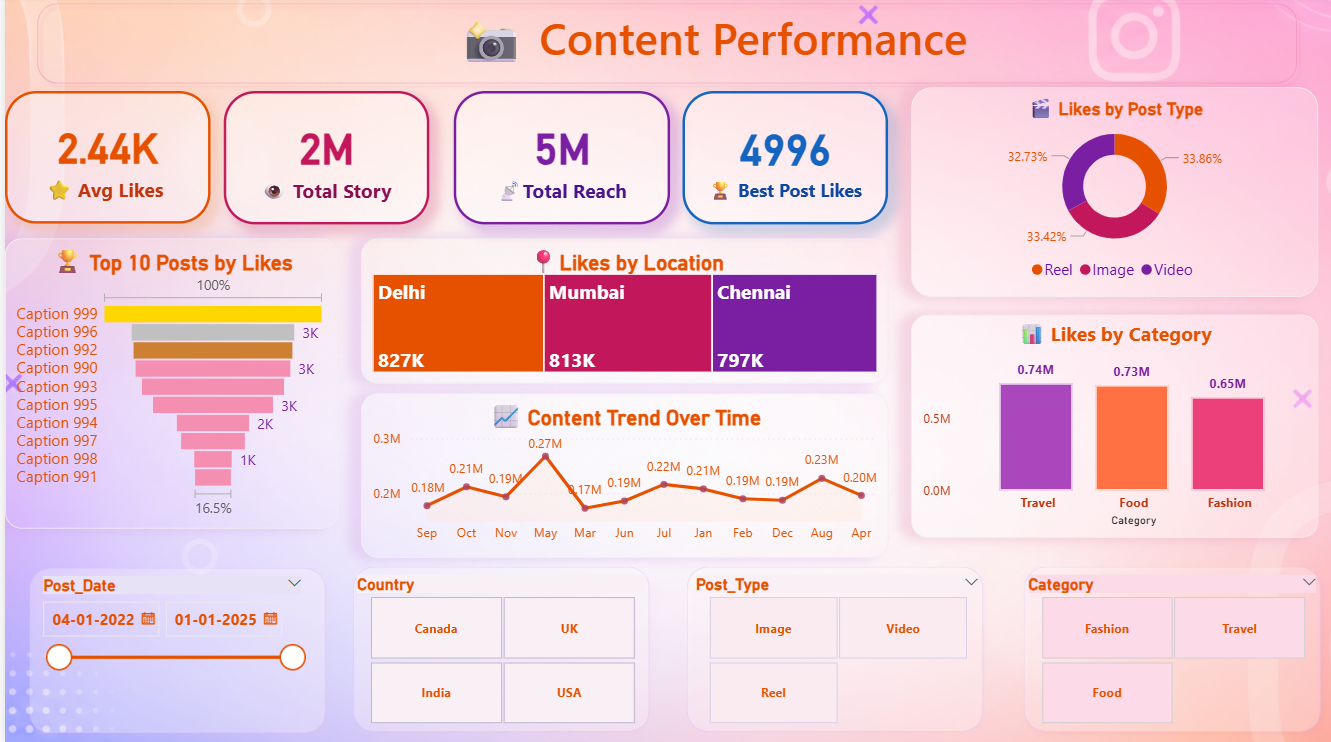

What the dashboard file says about the page in this screenshot:
{"tool":"powerbi","page":{"name":"CONTENT PERFORMANCE","canvas":[1280,720],"ordinal":1},"visuals":[{"type":"card","fields":{"Values":["Engagement.Total Reach"]},"box":[432.9,91.4,208.6,128.6],"z":0},{"type":"card","fields":{"Values":["Stories.Total Story Views"]},"box":[211.4,91.4,198.6,128.6],"z":1000},{"type":"card","fields":{"Values":["Posts.Best Post Likes"]},"box":[654.3,91.4,198.6,128.6],"z":2000},{"type":"treemap","title":"📍Likes by Location","fields":{"Values":["Likes.Total Likes"],"Group":["Posts.Location"]},"box":[343.8,233.8,508.8,140],"z":3000},{"type":"clusteredColumnChart","title":"📊 Likes by Category","fields":{"Y":["Posts.Likes by Category"],"Category":["Hashtags.Category"]},"box":[875,307.5,392.5,215],"z":4000},{"type":"donutChart","title":"🎬 Likes by Post Type","fields":{"Category":["Posts.Post_Type"],"Y":["Likes.Total Likes"]},"box":[875,87.5,392.5,202.5],"z":5000},{"type":"group","id":"g1","title":"Group 1","box":[15,541.2,1265,178.8],"z":6000},{"type":"shape","box":[24.3,0,1230,91.4],"z":7000},{"type":"textbox","box":[151.2,0,1063.8,116.2],"z":8000},{"type":"slicer","fields":{"Values":["Posts.Post_Date"]},"box":[23.8,555,275,165],"z":9000},{"type":"shape","box":[15,542,304.1,177.6],"z":10000,"group":"g1"},{"type":"slicer","fields":{"Values":["Users.Country"]},"box":[327.5,553.8,305,155],"z":10000},{"type":"shape","box":[327.3,541.2,304.1,177.6],"z":11000,"group":"g1"},{"type":"slicer","fields":{"Values":["Posts.Post_Type"]},"box":[653.8,553.8,298.8,155],"z":11000},{"type":"shape","box":[649.1,541.2,304.1,177.6],"z":12000,"group":"g1"},{"type":"slicer","fields":{"Values":["Hashtags.Category"]},"box":[975,553.8,303.8,155],"z":12000},{"type":"funnel","title":"🏆 Top 10 Posts by Likes","fields":{"Category":["Posts.Caption"],"Y":["Likes.Total Likes"]},"box":[0,233.8,321.2,280],"z":13000},{"type":"shape","box":[975.2,541.2,304.1,177.6],"z":13000,"group":"g1"},{"type":"card","fields":{"Values":["Posts.Avg Likes Per Post"]},"box":[0,92,198,128],"z":14000},{"type":"lineChart","title":"📈 Content Trend Over Time","fields":{"Y":["Likes.Total Likes"],"Category":["DateTable.Month"]},"box":[343.8,383.8,508.8,158.8],"z":15000}]}

Visuals, with their boxes in screenshot pixels (x1, y1, x2, y2), scaled from the page's 1280x720 canvas onto the 1331x742 screenshot:
card - Engagement.Total Reach: left=450, top=94, right=667, bottom=227
card - Stories.Total Story Views: left=220, top=94, right=426, bottom=227
card - Posts.Best Post Likes: left=680, top=94, right=887, bottom=227
"📍Likes by Location" treemap: left=357, top=241, right=887, bottom=385
"📊 Likes by Category" clusteredColumnChart: left=910, top=317, right=1318, bottom=538
"🎬 Likes by Post Type" donutChart: left=910, top=90, right=1318, bottom=299
"Group 1" group: left=16, top=558, right=1330, bottom=741
shape: left=25, top=0, right=1304, bottom=94
textbox: left=157, top=0, right=1263, bottom=120
slicer - Posts.Post_Date: left=25, top=572, right=311, bottom=741
shape: left=16, top=559, right=332, bottom=741
slicer - Users.Country: left=341, top=571, right=658, bottom=730
shape: left=340, top=558, right=657, bottom=741
slicer - Posts.Post_Type: left=680, top=571, right=991, bottom=730
shape: left=675, top=558, right=991, bottom=741
slicer - Hashtags.Category: left=1014, top=571, right=1330, bottom=730
"🏆 Top 10 Posts by Likes" funnel: left=0, top=241, right=334, bottom=529
shape: left=1014, top=558, right=1330, bottom=741
card - Posts.Avg Likes Per Post: left=0, top=95, right=206, bottom=227
"📈 Content Trend Over Time" lineChart: left=357, top=396, right=887, bottom=559
